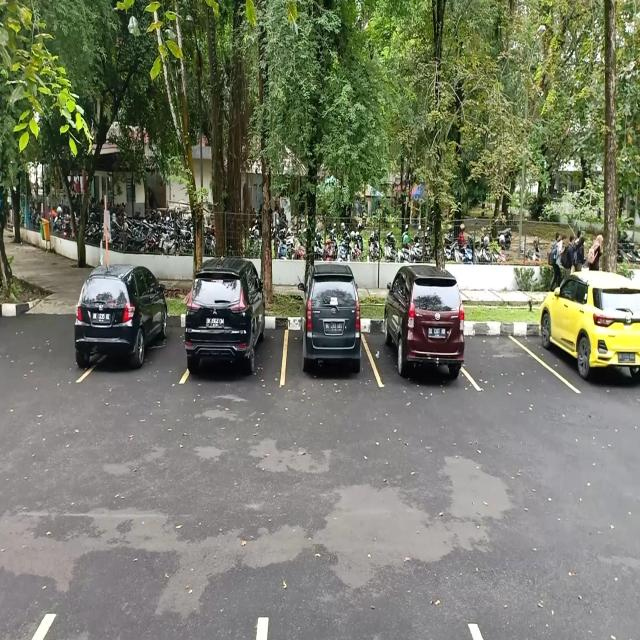empty: (467, 326, 545, 398)
occupied: (81, 285, 182, 391), (537, 299, 640, 394), (184, 299, 286, 386), (372, 298, 472, 384), (284, 301, 369, 383)
